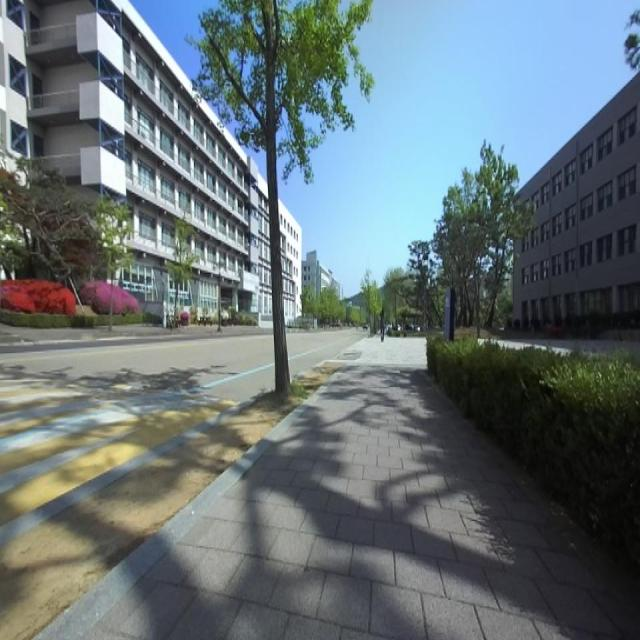sidewalk: (40, 333, 640, 639), (88, 337, 640, 639)
